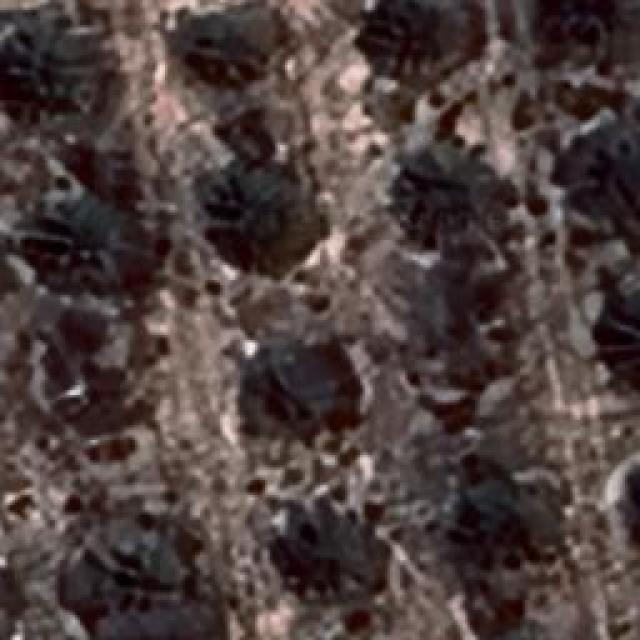PalmTree: (45, 91, 618, 331), (96, 26, 590, 91), (9, 22, 129, 118), (267, 498, 375, 600), (38, 186, 130, 292), (452, 468, 546, 570), (242, 336, 338, 432), (61, 532, 169, 616), (200, 165, 300, 255), (555, 124, 640, 228), (184, 5, 278, 95), (357, 0, 450, 72), (406, 154, 486, 232), (481, 624, 568, 640)
